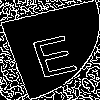E: (25, 25, 81, 79)
